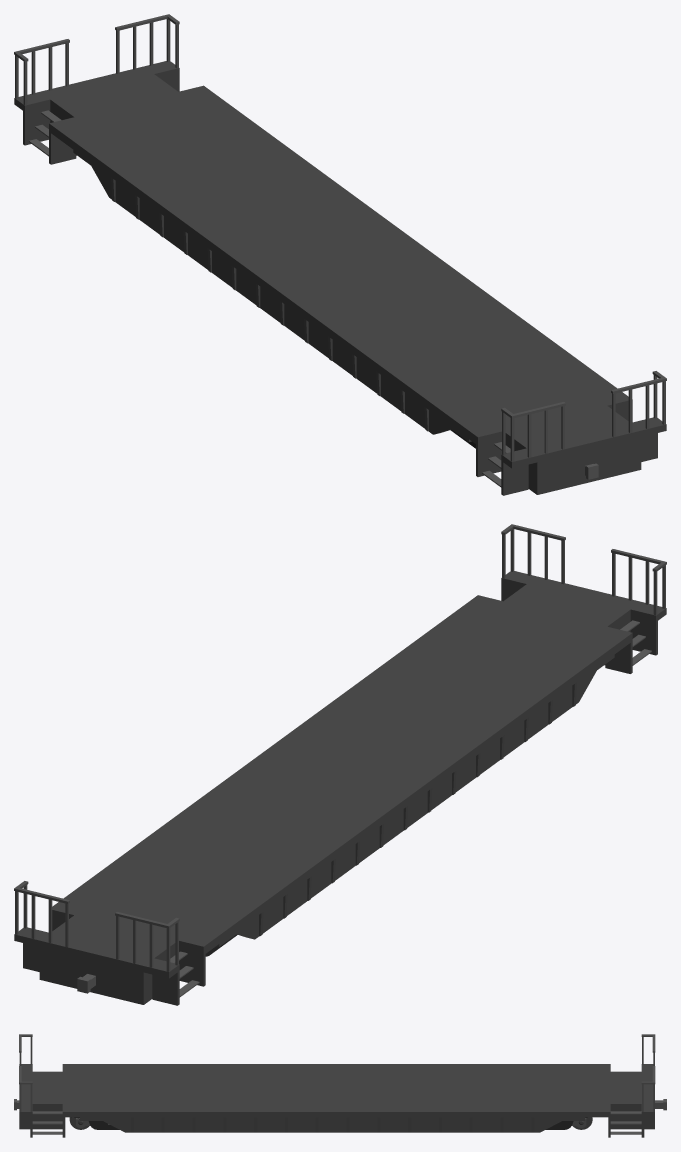
Rendered from SM_Vehicles_Train_03.fbx.
3 views of the same model, one above another, from view 1: azimuth 30°, elevation 25°; view 2: azimuth 150°, elevation 25°; view 3: azimuth 270°, elevation 25° (orthographic). The views are drawn at different scales.
Parts seen in each view (by area): view 1: SM_Vehicles_Train_03; view 2: SM_Vehicles_Train_03; view 3: SM_Vehicles_Train_03.
Part boxes in pixels (x1=…): SM_Vehicles_Train_03: x1=14, y1=14, x2=666, y2=495; SM_Vehicles_Train_03: x1=14, y1=524, x2=666, y2=1005; SM_Vehicles_Train_03: x1=14, y1=1034, x2=666, y2=1137.
Size of the model in its own units: 3.51 by 2.02 by 20.02.
